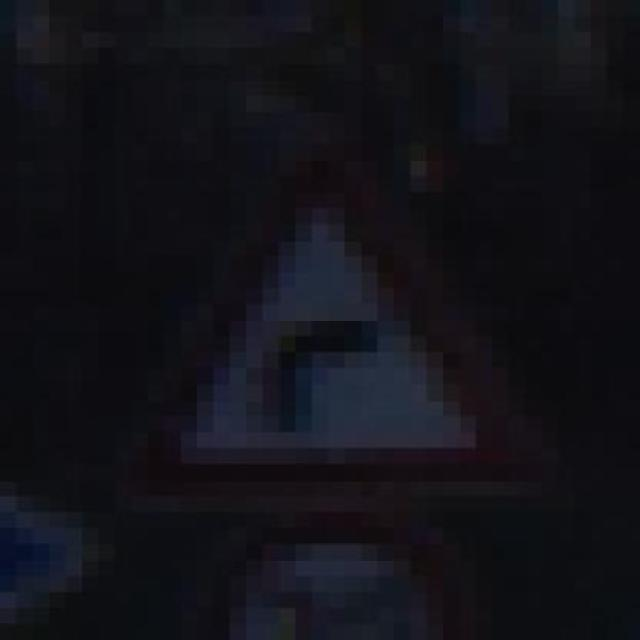Dangerous Rright Curve Ahead: (99, 128, 542, 528)
